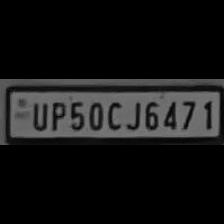0: (84, 98, 104, 130)
1: (198, 96, 216, 130)
4: (158, 98, 178, 130)
5: (65, 98, 85, 130)
6: (140, 97, 160, 129)
7: (178, 97, 196, 129)
C: (104, 97, 122, 130)
J: (123, 97, 141, 130)
P: (47, 98, 65, 130)
U: (28, 98, 48, 130)
